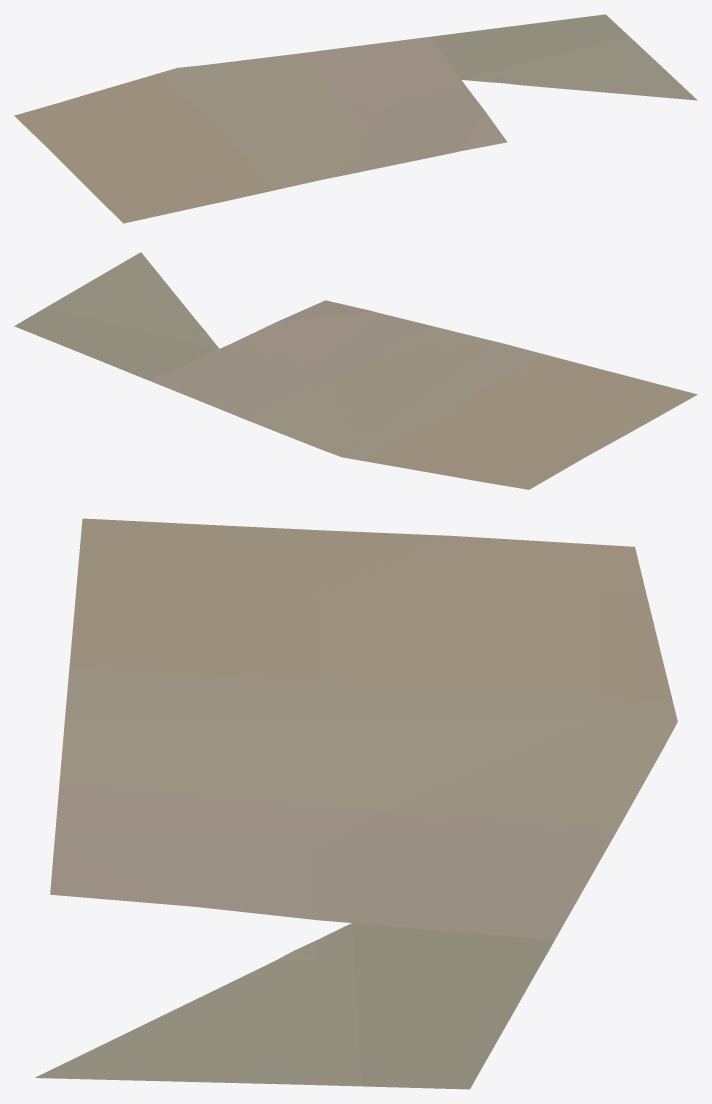
The model's file is farm_16_17_soil.glb.
The picture shows the model from 3 angles, top to bottom: view 1: azimuth 30°, elevation 25°; view 2: azimuth 150°, elevation 25°; view 3: azimuth 270°, elevation 25°; orthographic projection. The views are drawn at different scales.
Parts seen in each view (by area): view 1: geometry_0; view 2: geometry_0; view 3: geometry_0.
Boxes of the visible parts, <box> form: geometry_0: <box>14,14,697,223</box>; geometry_0: <box>14,252,697,489</box>; geometry_0: <box>35,518,677,1089</box>.
Size of the model in its own units: 379 by 3.74 by 182.
